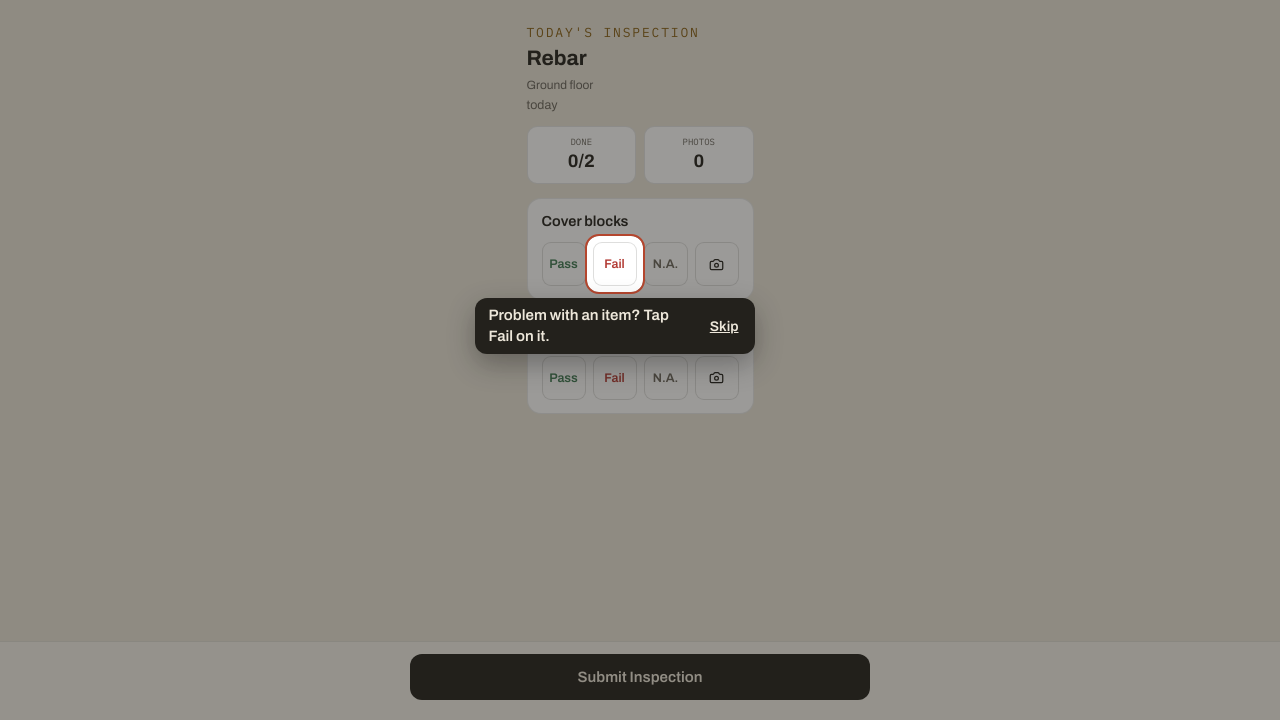
Scenario: the engineer is guided through raising an issue on the live checklist › One tap on Skip ends it and it does not come back for that person
Click the button with test id "guide-skip". click: (724, 326)
box: [700,304,748,348]
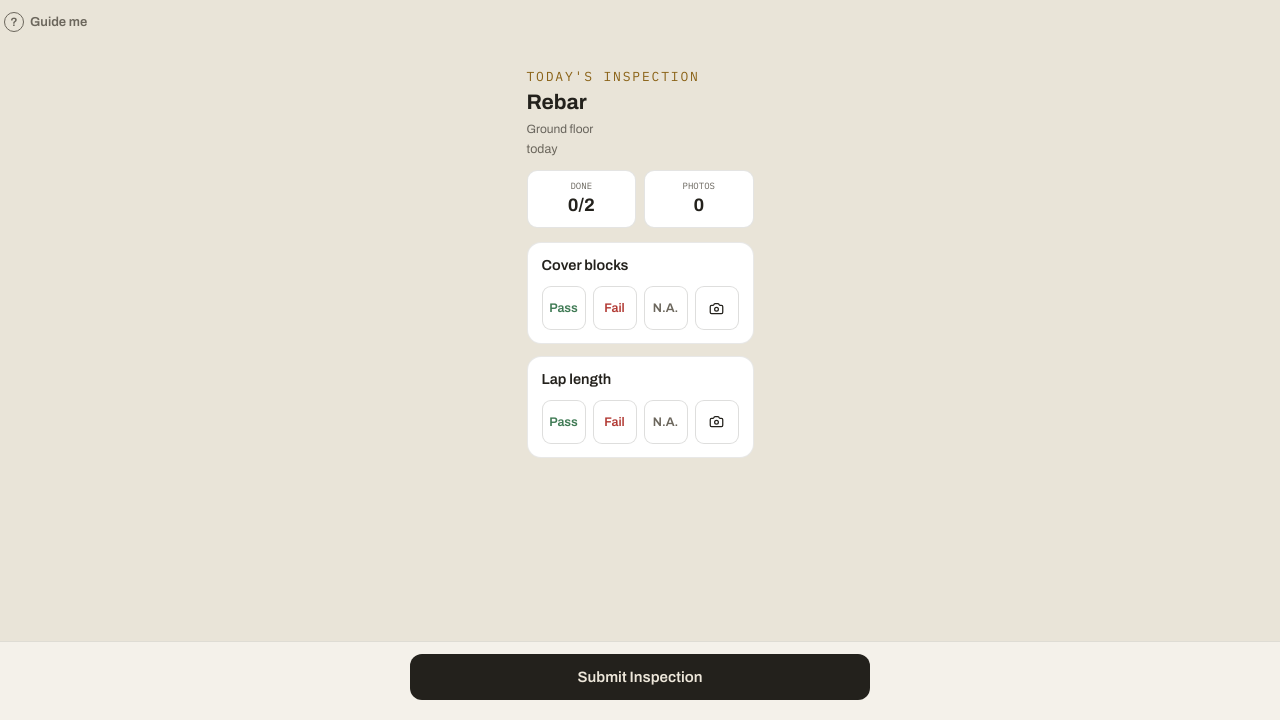
Expected: the message with test id "guide-tip" is gone
